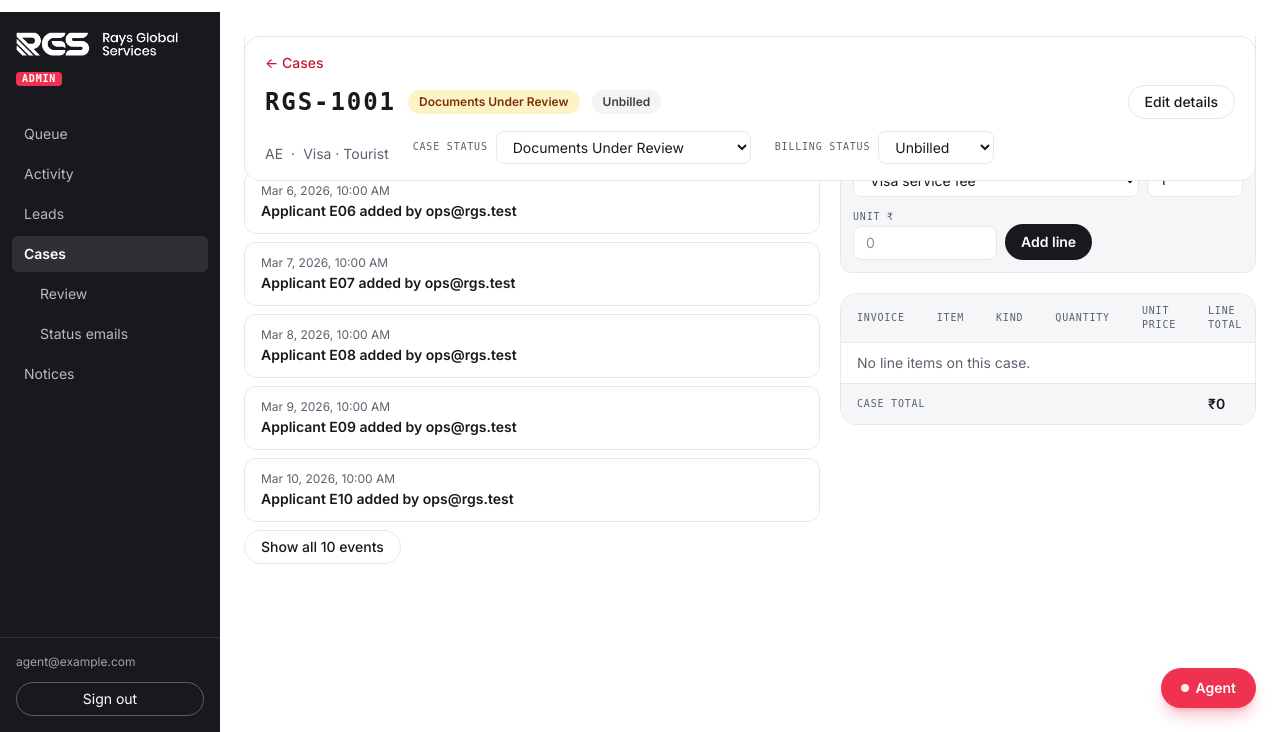
Test case: CasePage › collapses a long timeline to the most recent 8 events and expands to all
(page scrolled)
Click the button "Show all 10 events" at (322,547), box [244,530,401,564]
(page scrolled)
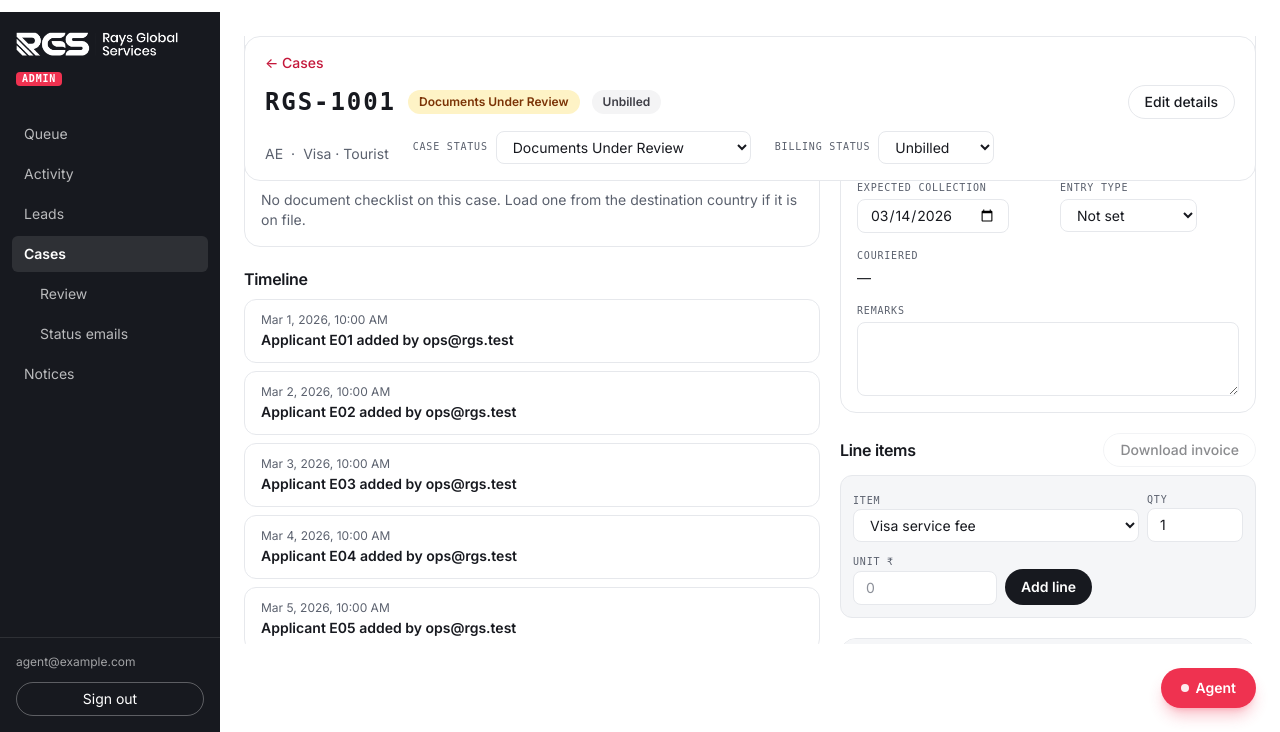
Expected: the text with test id "timeline-entry-title" shows "E01", [261,331,514,348]
